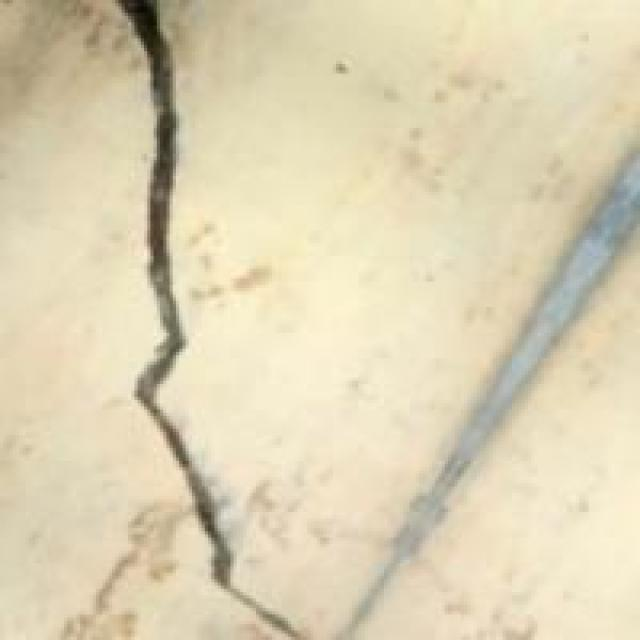crack: (106, 0, 350, 640)
